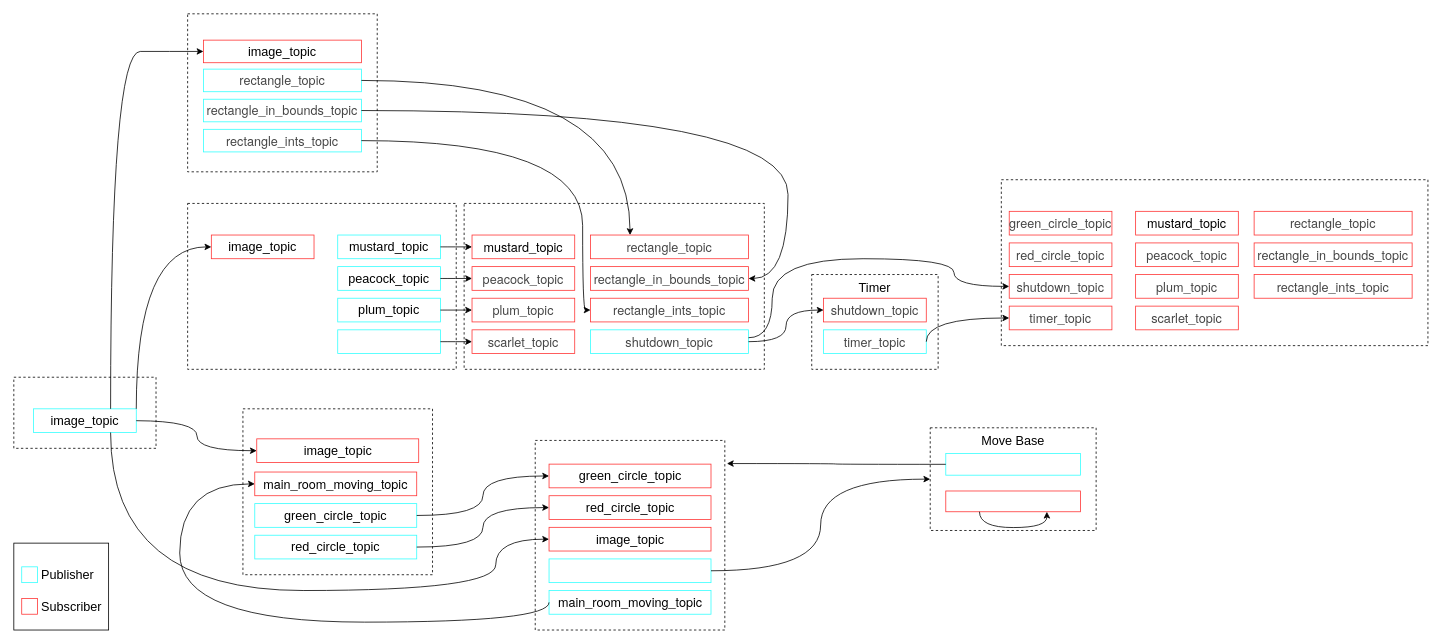
The diagram is 1442 pixels wide and 644 high, and some of its shapes have lost their labels. The shapes that lost their labels are listed below. From the top down, each one's box as (x1, y1, x2, y2) in pixels, then its label:
(187, 13, 377, 172): Rectangle Identification
(1001, 179, 1428, 346): Listener
(187, 203, 456, 369): Character Identification
(463, 203, 764, 369): Character Output
(337, 329, 440, 354): scarlett_topic
(13, 376, 156, 448): Image Converter
(945, 453, 1081, 475): /move_base/feedback
(242, 408, 433, 575): Circle Finder
(945, 490, 1081, 512): /move_base/
(534, 440, 725, 630): Main Room Navigator
(13, 542, 109, 630): Key:
(548, 558, 711, 583): /move_base/goal
